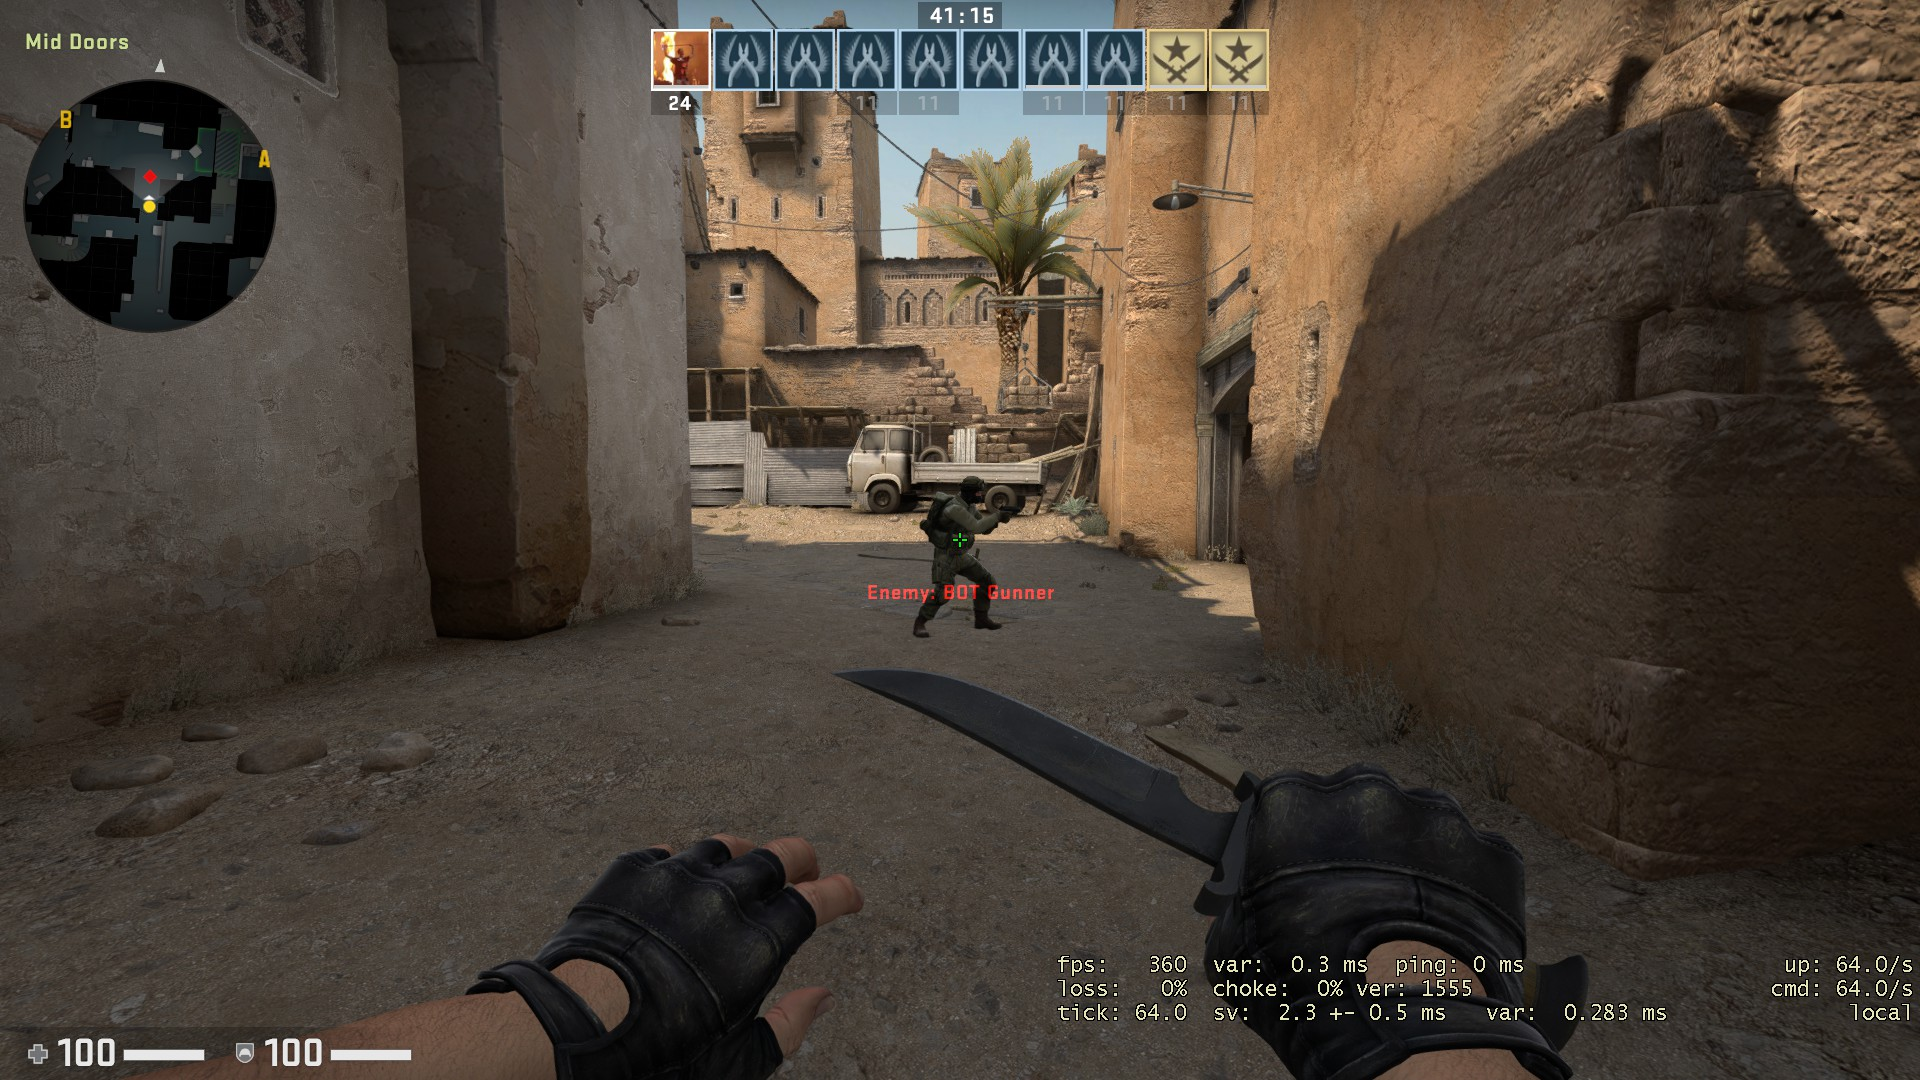player: (909, 472, 1024, 637)
